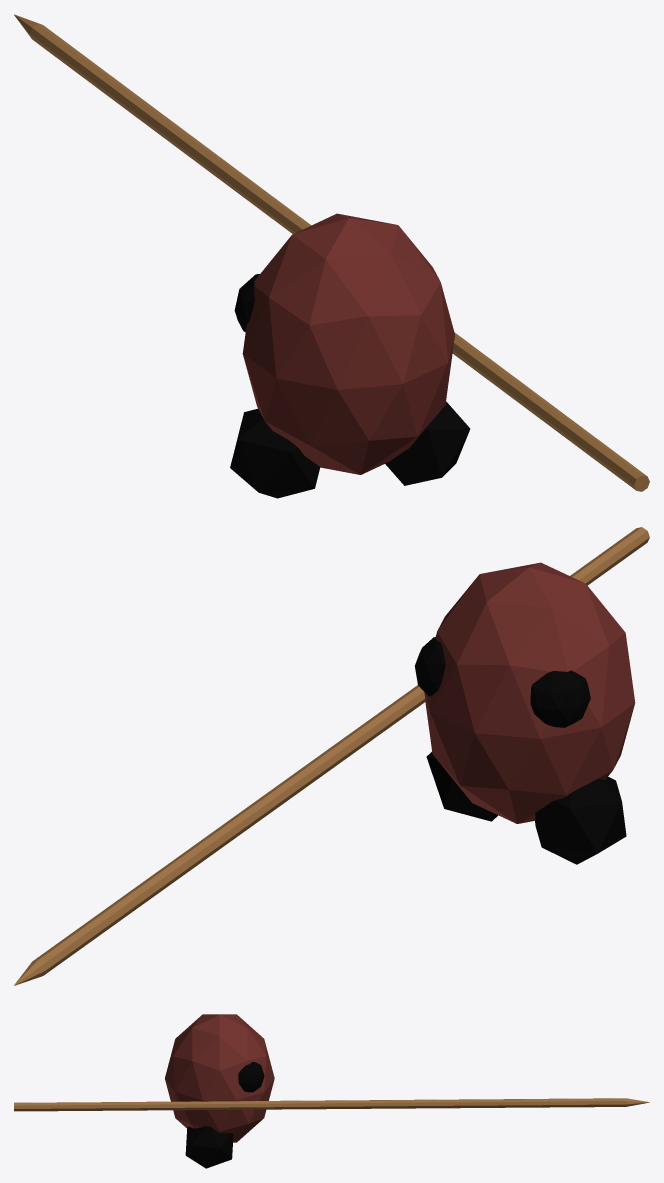
File: walk.f0005.glb
3 renders of one model, top to bottom at view 1: azimuth 30°, elevation 25°; view 2: azimuth 150°, elevation 25°; view 3: azimuth 270°, elevation 25°, orthographic. The views are drawn at different scales.
Visible parts, largest first — view 1: Body.001; view 2: Body.001; view 3: Body.001.
Boxes of the visible parts, x1,y1,x2,y2 form: Body.001: (14, 14, 649, 498); Body.001: (14, 527, 649, 985); Body.001: (14, 1014, 649, 1168).
Bounding box in the file's own units: 2.17 × 2.79 × 11.56.
Materials: 1 (1 with a texture image).
